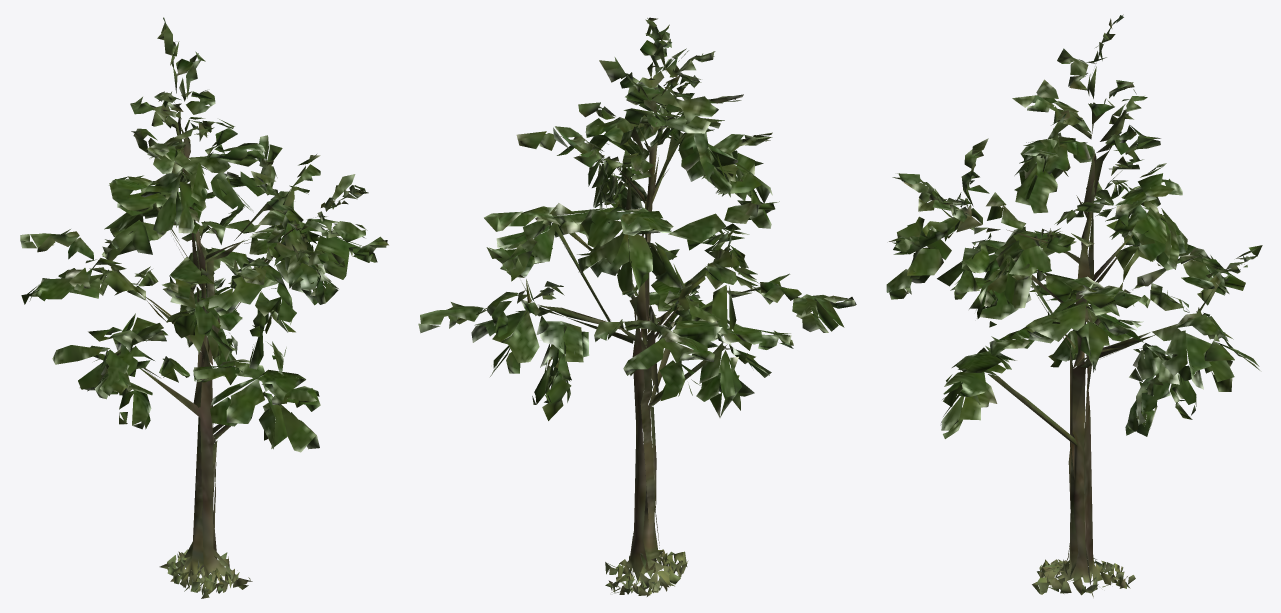
File: salgueiro_brejo_broto.glb
3 views of the same model, side by side, from view 1: azimuth 30°, elevation 25°; view 2: azimuth 150°, elevation 25°; view 3: azimuth 270°, elevation 25° (orthographic). The views are drawn at different scales.
Parts seen in each view (by area): view 1: geometry_0; view 2: geometry_0; view 3: geometry_0.
Part boxes in pixels (x1,y1,x2,y2): geometry_0: [20, 17, 388, 598]; geometry_0: [418, 17, 856, 596]; geometry_0: [886, 14, 1262, 597].
Bounding box in the file's own units: 0.2886 × 0.5322 × 0.3257.
1 material, 1 textured.
